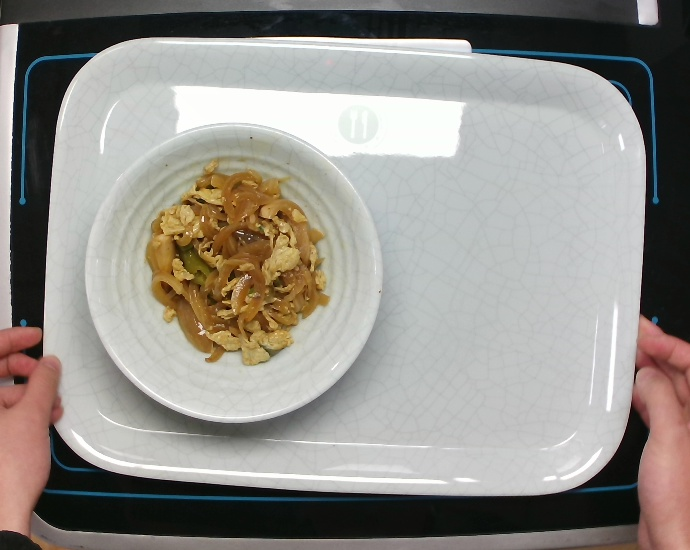JYsf-Xiao_Tang_Wan: (76, 111, 392, 434)
